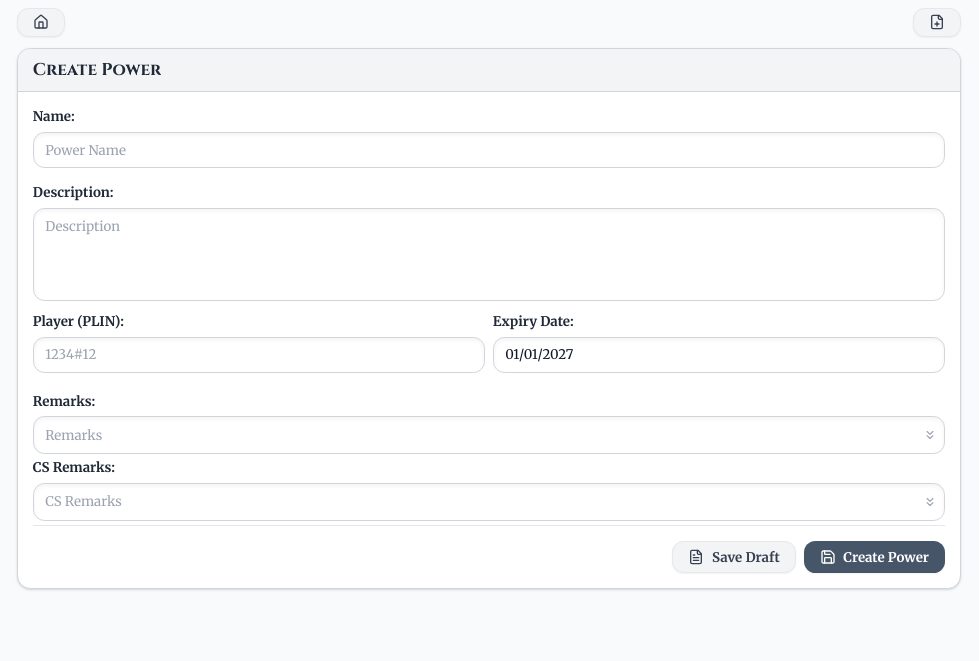
Test case: CreatePower Page › creates power successfully
Type "Invisibility" into the field with placeholder "Power Name" at point(489, 150), box [33,132,945,168]
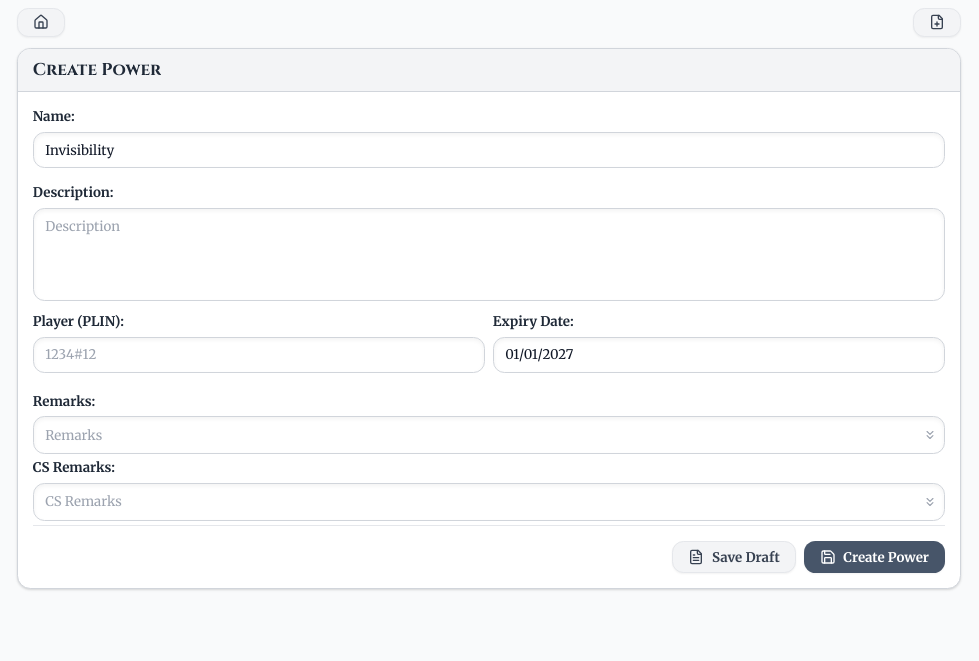
Type "Vanishes" into the text box with placeholder "Description" at point(489, 255), box [33,208,945,301]
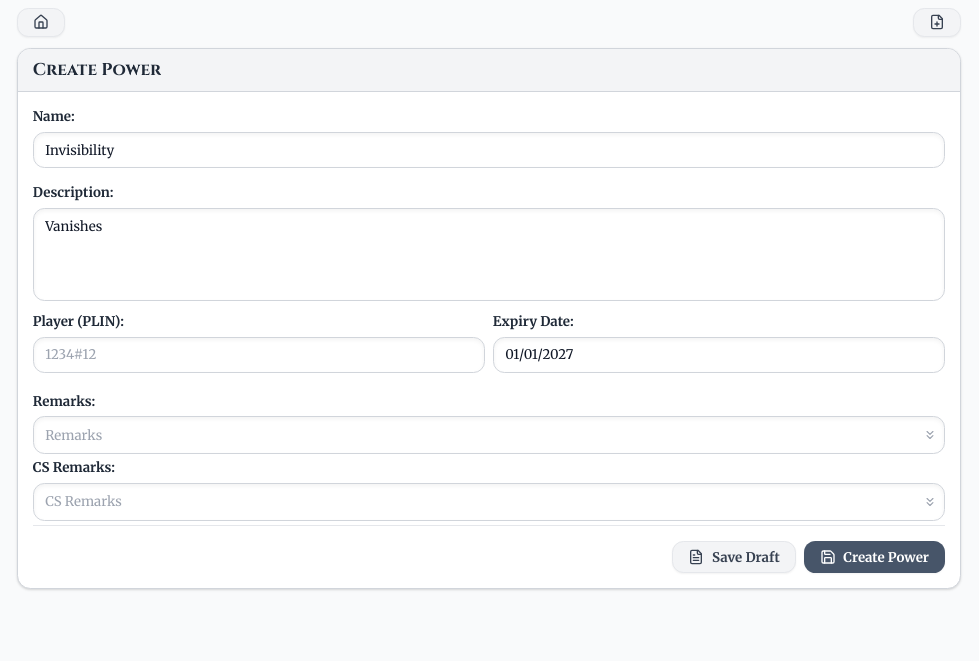
Click the button "Create Power" at point(874, 557), box [804,541,945,573]
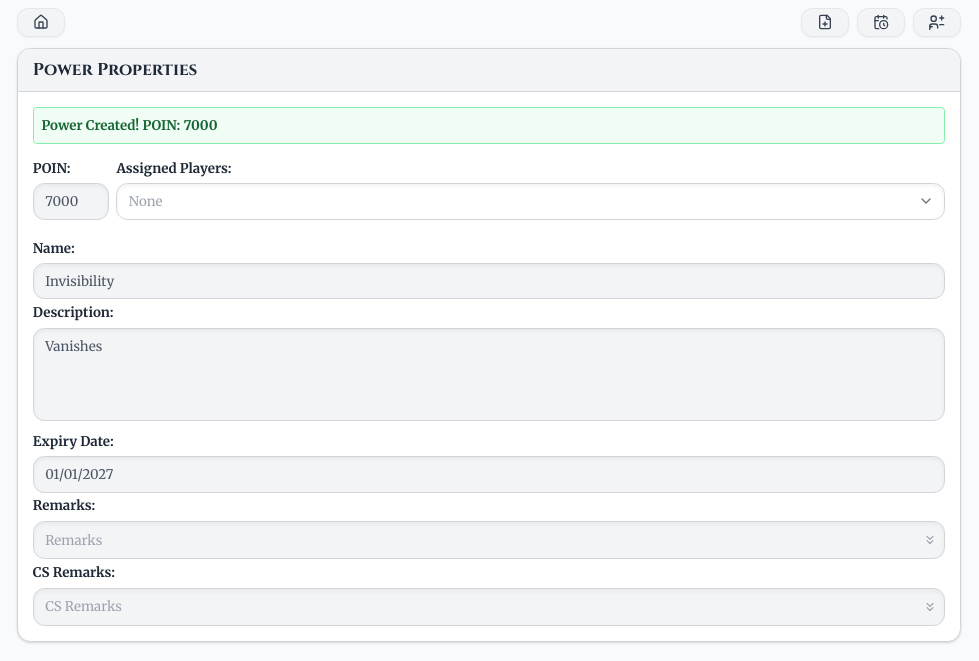
Result: the text "Power Created! POIN: 7000" is shown at [41,117,218,134]
